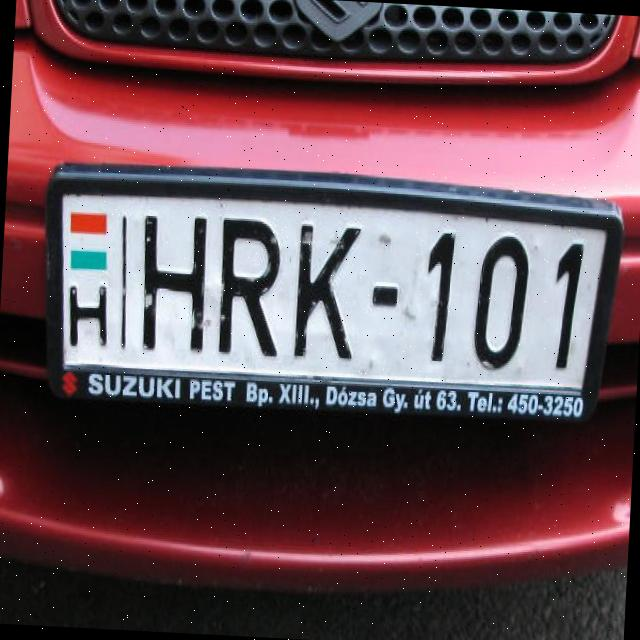licence: (34, 162, 619, 430)
